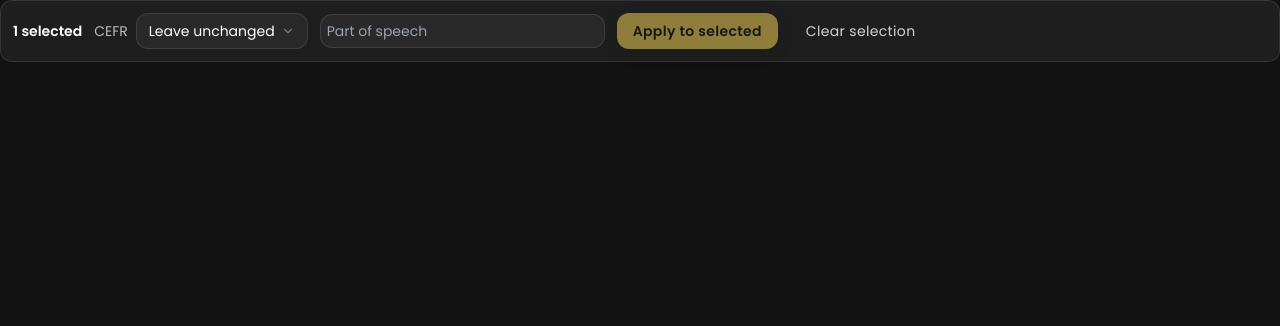
Scenario: BulkEditBar › reports a failure instead of appearing to have applied
The image size is (1280, 326).
Press Enter in the dropdown named "Bulk CEFR level", box top-left (136, 13), bottom-right (308, 49)
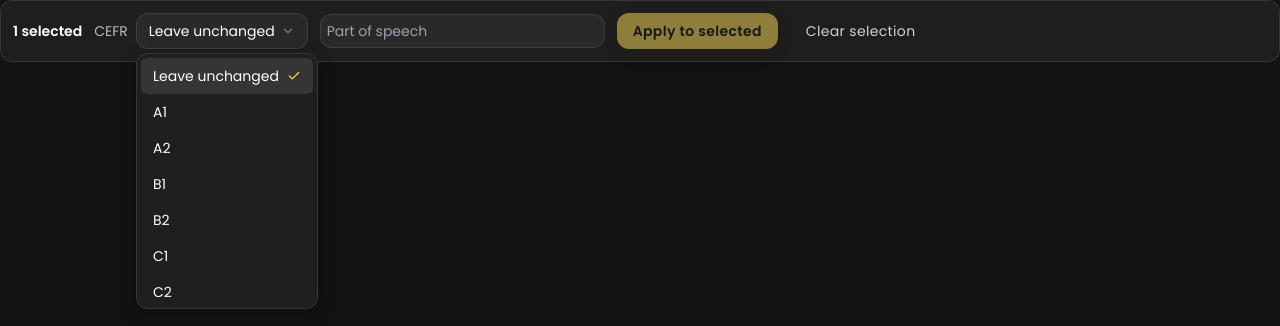
Click the option "B1".
click(160, 184)  # box top-left (153, 174), bottom-right (166, 194)
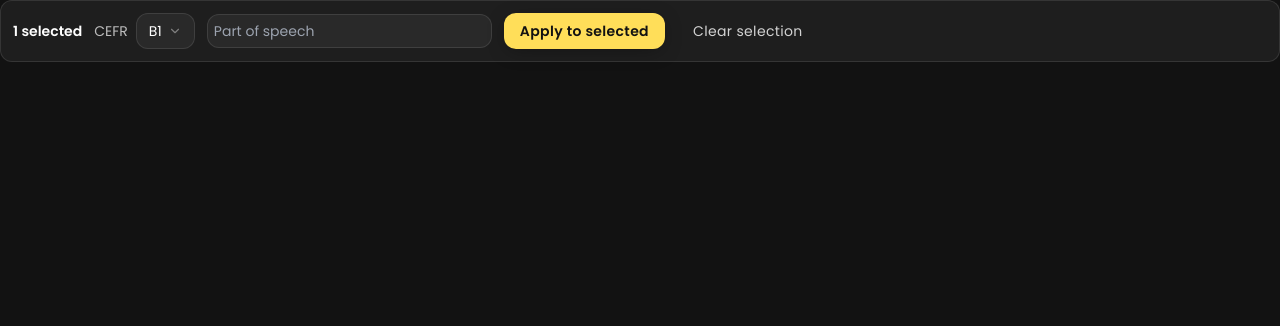
Click the button "Apply to selected".
click(584, 31)  # box top-left (504, 13), bottom-right (665, 49)
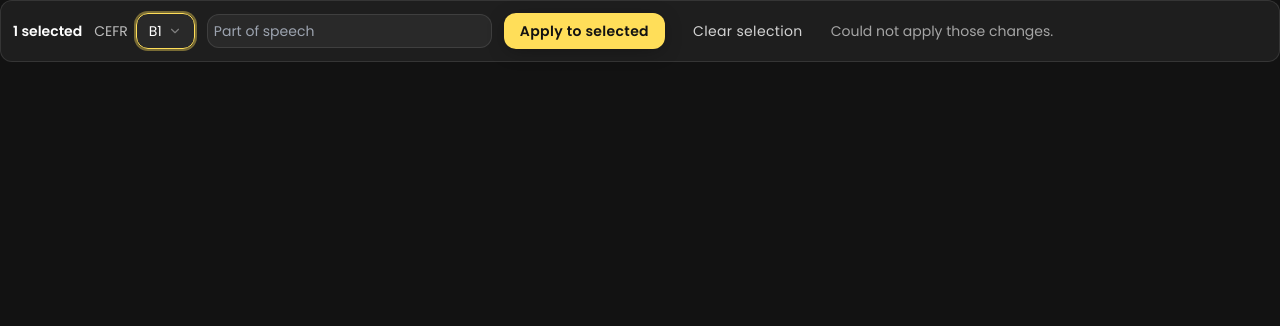
Expected: the message shows "Could not apply", top-left (831, 21), bottom-right (1053, 41)
